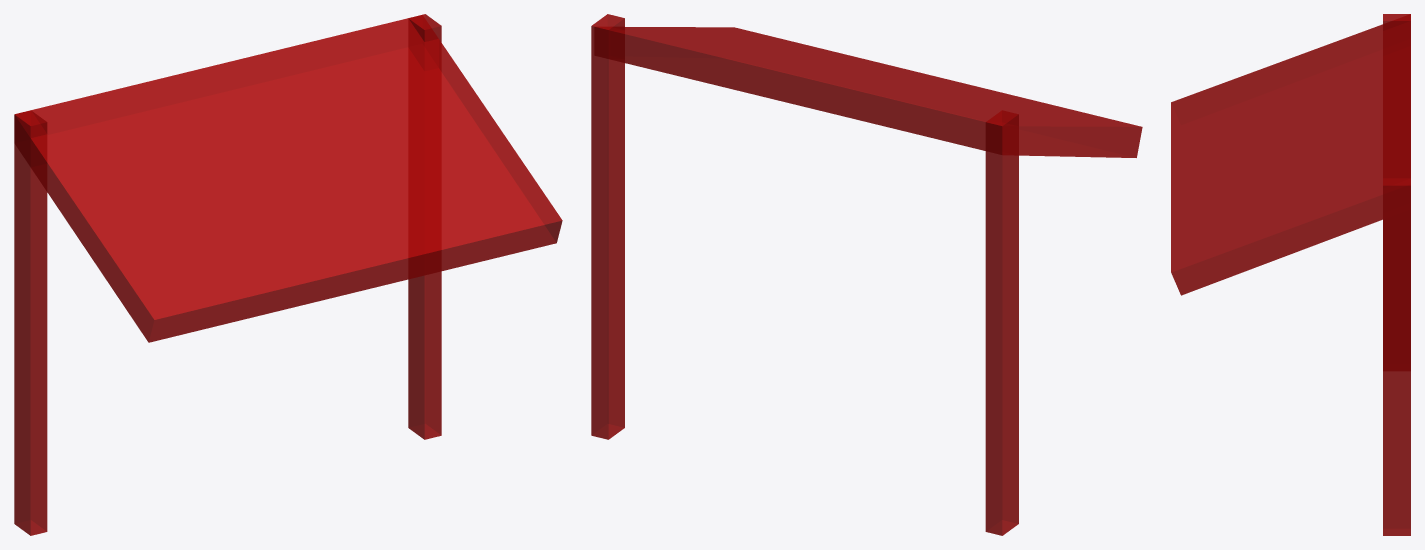
The model's file is SM_Bld_Village_ClothCover_Slope_02_Collision.fbx.
The picture shows the model from 3 angles, left to right: view 1: azimuth 30°, elevation 25°; view 2: azimuth 150°, elevation 25°; view 3: azimuth 270°, elevation 25°; orthographic projection. The views are drawn at different scales.
Parts seen in each view (by area): view 1: SM_Bld_Village_ClothCover_Slope_02_Collision; view 2: SM_Bld_Village_ClothCover_Slope_02_Collision; view 3: SM_Bld_Village_ClothCover_Slope_02_Collision.
Part boxes in pixels (x1=…): SM_Bld_Village_ClothCover_Slope_02_Collision: x1=14, y1=14, x2=562, y2=535; SM_Bld_Village_ClothCover_Slope_02_Collision: x1=591, y1=14, x2=1142, y2=535; SM_Bld_Village_ClothCover_Slope_02_Collision: x1=1171, y1=14, x2=1410, y2=535.
Size of the model in its own units: 363 by 346 by 214.
